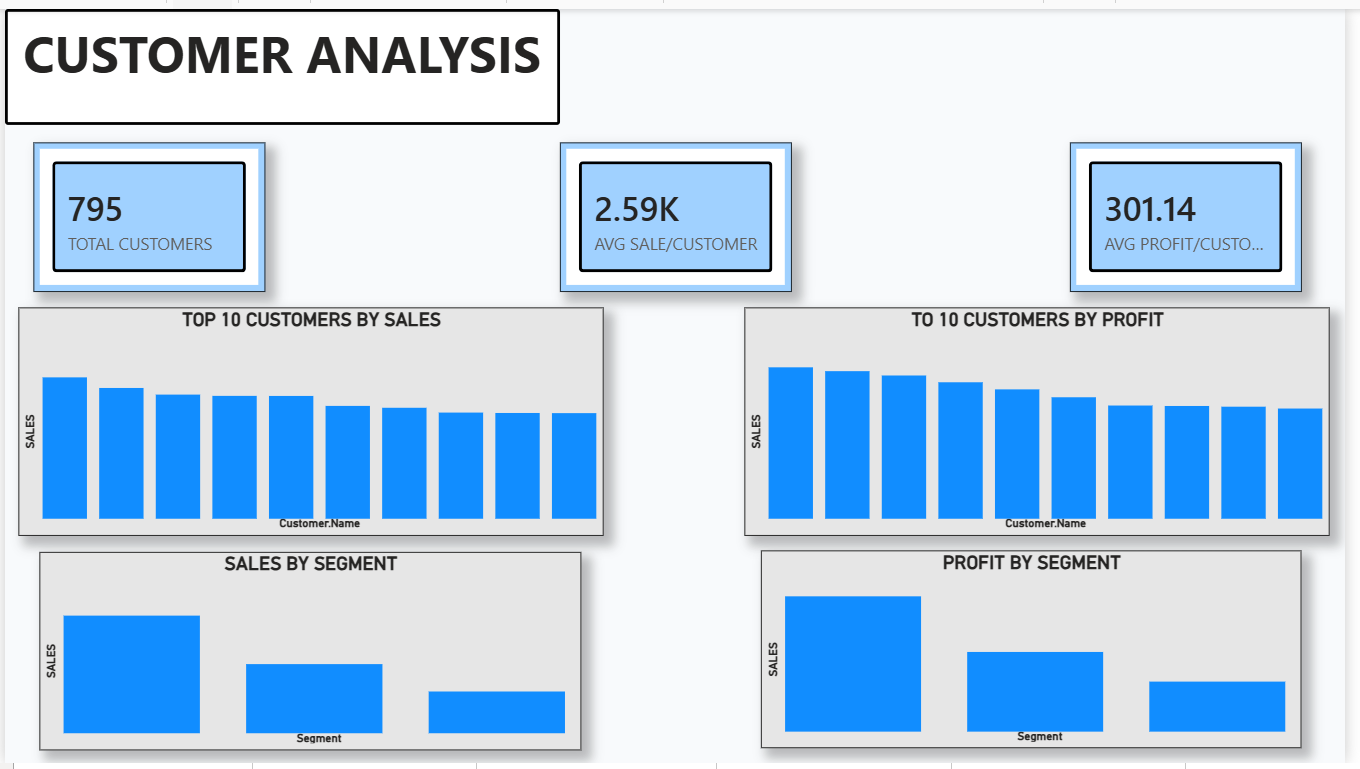

The page's visual inventory and layout, read from the dashboard file:
{"tool":"powerbi","page":{"name":"CUSTOMER ANALYSIS","canvas":[1280,720],"ordinal":2},"visuals":[{"type":"textbox","box":[0,0,530,110.5],"z":0},{"type":"cardVisual","fields":{"Data":["Count(superstore.Customer.Name)"]},"box":[27.3,127.2,221.1,142.3],"z":1000},{"type":"cardVisual","fields":{"Data":["MEASURE.Average Sales per Customer"]},"box":[530,127.2,221.1,142.3],"z":2000},{"type":"cardVisual","fields":{"Data":["MEASURE.Average Profit per Customer"]},"box":[1017.5,127.2,221.1,142.3],"z":3000},{"type":"columnChart","title":"TOP 10 CUSTOMERS BY SALES","fields":{"Category":["superstore.Customer.Name"],"Y":["Sum(superstore.Sales)"]},"box":[12.9,285,558.6,217.7],"z":4000},{"type":"columnChart","title":"TO 10 CUSTOMERS BY PROFIT","fields":{"Category":["superstore.Customer.Name"],"Y":["Sum(superstore.Profit)"]},"box":[706.2,285,558.6,217.7],"z":5000},{"type":"columnChart","title":"SALES BY SEGMENT","fields":{"Y":["Sum(superstore.Sales)"],"Category":["superstore.Segment"]},"box":[32.9,518.5,517.1,189.1],"z":6000},{"type":"columnChart","title":"PROFIT BY SEGMENT","fields":{"Category":["superstore.Segment"],"Y":["Sum(superstore.Profit)"]},"box":[721.9,517.8,515.9,189],"z":7000}]}

Visuals, with their boxes in screenshot pixels (x1, y1, x2, y2), scaled from the page's 1280x720 canvas onto the 1360x769 screenshot:
textbox: {"x1": 0, "y1": 0, "x2": 563, "y2": 118}
cardVisual - Count(superstore.Customer.Name): {"x1": 29, "y1": 136, "x2": 264, "y2": 288}
cardVisual - MEASURE.Average Sales per Customer: {"x1": 563, "y1": 136, "x2": 798, "y2": 288}
cardVisual - MEASURE.Average Profit per Customer: {"x1": 1081, "y1": 136, "x2": 1316, "y2": 288}
"TOP 10 CUSTOMERS BY SALES" columnChart: {"x1": 14, "y1": 304, "x2": 607, "y2": 537}
"TO 10 CUSTOMERS BY PROFIT" columnChart: {"x1": 750, "y1": 304, "x2": 1344, "y2": 537}
"SALES BY SEGMENT" columnChart: {"x1": 35, "y1": 554, "x2": 584, "y2": 756}
"PROFIT BY SEGMENT" columnChart: {"x1": 767, "y1": 553, "x2": 1315, "y2": 755}
